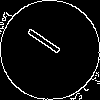I: (25, 25, 71, 63)
